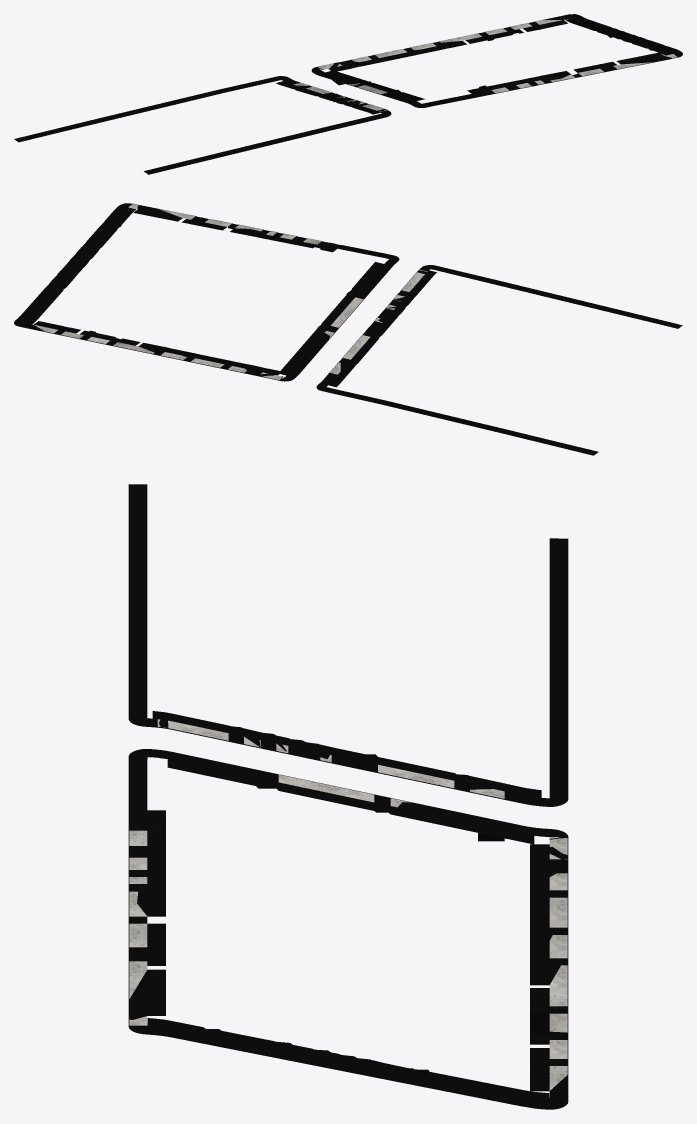
Rendered from sidewalk_residential1.dae.
3 renders of one model, top to bottom at view 1: azimuth 30°, elevation 25°; view 2: azimuth 150°, elevation 25°; view 3: azimuth 270°, elevation 25°, orthographic. The views are drawn at different scales.
Parts seen in each view (by area): view 1: Colmesh-1, sidewalk_residential1_a2000; view 2: Colmesh-1, sidewalk_residential1_a2000; view 3: Colmesh-1, sidewalk_residential1_a2000.
Part boxes in pixels (x1=…): Colmesh-1: x1=17, y1=14, x2=682, y2=174; sidewalk_residential1_a2000: x1=14, y1=14, x2=682, y2=174; Colmesh-1: x1=14, y1=203, x2=682, y2=455; sidewalk_residential1_a2000: x1=14, y1=203, x2=682, y2=454; Colmesh-1: x1=128, y1=484, x2=568, y2=1109; sidewalk_residential1_a2000: x1=129, y1=484, x2=567, y2=1108.
Size of the model in its own units: 292 by 98.83 by 24.82.
